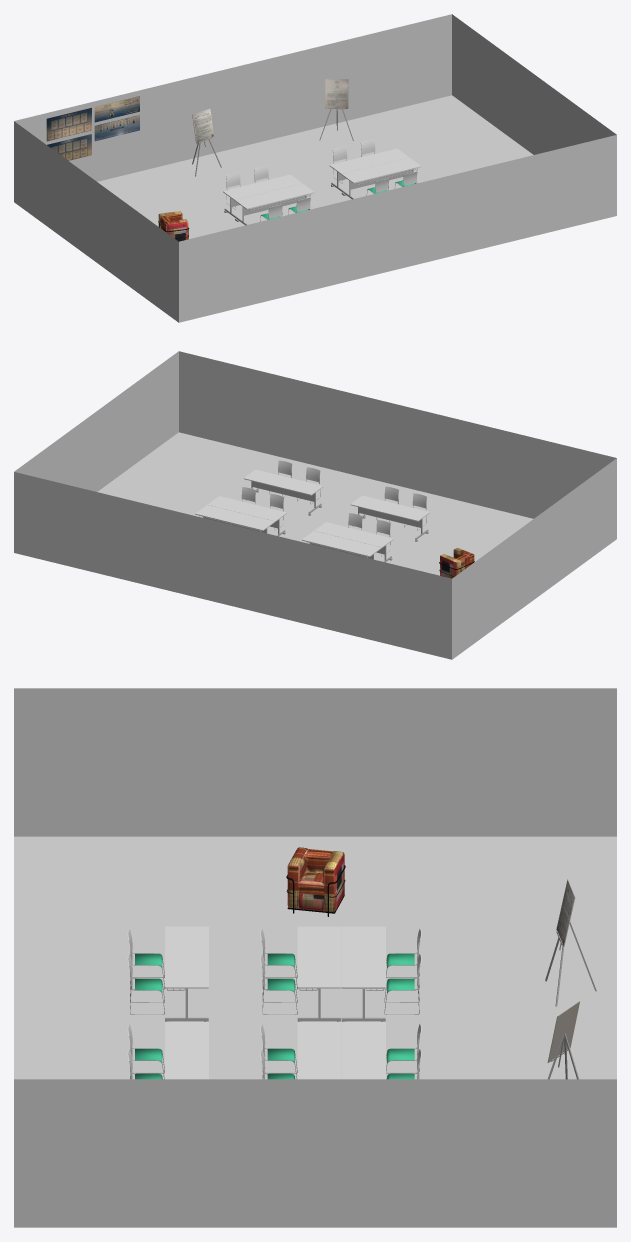
File: room.glb
3 views of the same model, one above another, from view 1: azimuth 30°, elevation 25°; view 2: azimuth 150°, elevation 25°; view 3: azimuth 270°, elevation 25° (orthographic). The views are drawn at different scales.
Visible parts, largest first — view 1: Cube.001, Cube, Cube.003, Plane.003, Cube.002, Cube.004, Plane.004, Plane.001, Plane.002, Cube.011, Cube.007, Cube.009; view 2: Cube.001, Cube.005, Cube.006, Cube.004, Cube.002, Cube, Cube.003, Cube.007; view 3: Cube.001, Cube.007, Cube, Cube.005, Cube.002, Cube.003, Cube.004, Cube.006, Cube.011.
Part boxes in pixels (x1=…): Cube.001: x1=14, y1=14, x2=616, y2=322; Cube: x1=235, y1=183, x2=314, y2=225; Cube.003: x1=341, y1=157, x2=421, y2=199; Plane.003: x1=46, y1=107, x2=91, y2=141; Cube.002: x1=223, y1=174, x2=302, y2=220; Cube.004: x1=329, y1=148, x2=408, y2=194; Plane.004: x1=47, y1=134, x2=91, y2=160; Plane.001: x1=94, y1=96, x2=139, y2=122; Plane.002: x1=94, y1=115, x2=139, y2=141; Cube.011: x1=325, y1=79, x2=348, y2=108; Cube.007: x1=158, y1=211, x2=188, y2=241; Cube.009: x1=192, y1=108, x2=214, y2=143; Cube.001: x1=14, y1=351, x2=616, y2=659; Cube.005: x1=350, y1=495, x2=429, y2=541; Cube.006: x1=244, y1=469, x2=323, y2=515; Cube.004: x1=195, y1=505, x2=274, y2=533; Cube.002: x1=302, y1=531, x2=381, y2=559; Cube: x1=314, y1=522, x2=393, y2=562; Cube.003: x1=207, y1=496, x2=286, y2=536; Cube.007: x1=440, y1=548, x2=474, y2=578; Cube.001: x1=14, y1=688, x2=616, y2=1227; Cube.007: x1=287, y1=847, x2=344, y2=912; Cube: x1=297, y1=926, x2=341, y2=1021; Cube.005: x1=165, y1=926, x2=208, y2=1021; Cube.002: x1=342, y1=926, x2=385, y2=1021; Cube.003: x1=297, y1=1022, x2=341, y2=1079; Cube.004: x1=342, y1=1022, x2=385, y2=1079; Cube.006: x1=165, y1=1022, x2=208, y2=1079; Cube.011: x1=547, y1=1001, x2=579, y2=1062.
Size of the model in its own units: 11.3 by 2.01 by 7.37.
14 materials, 7 textured.
